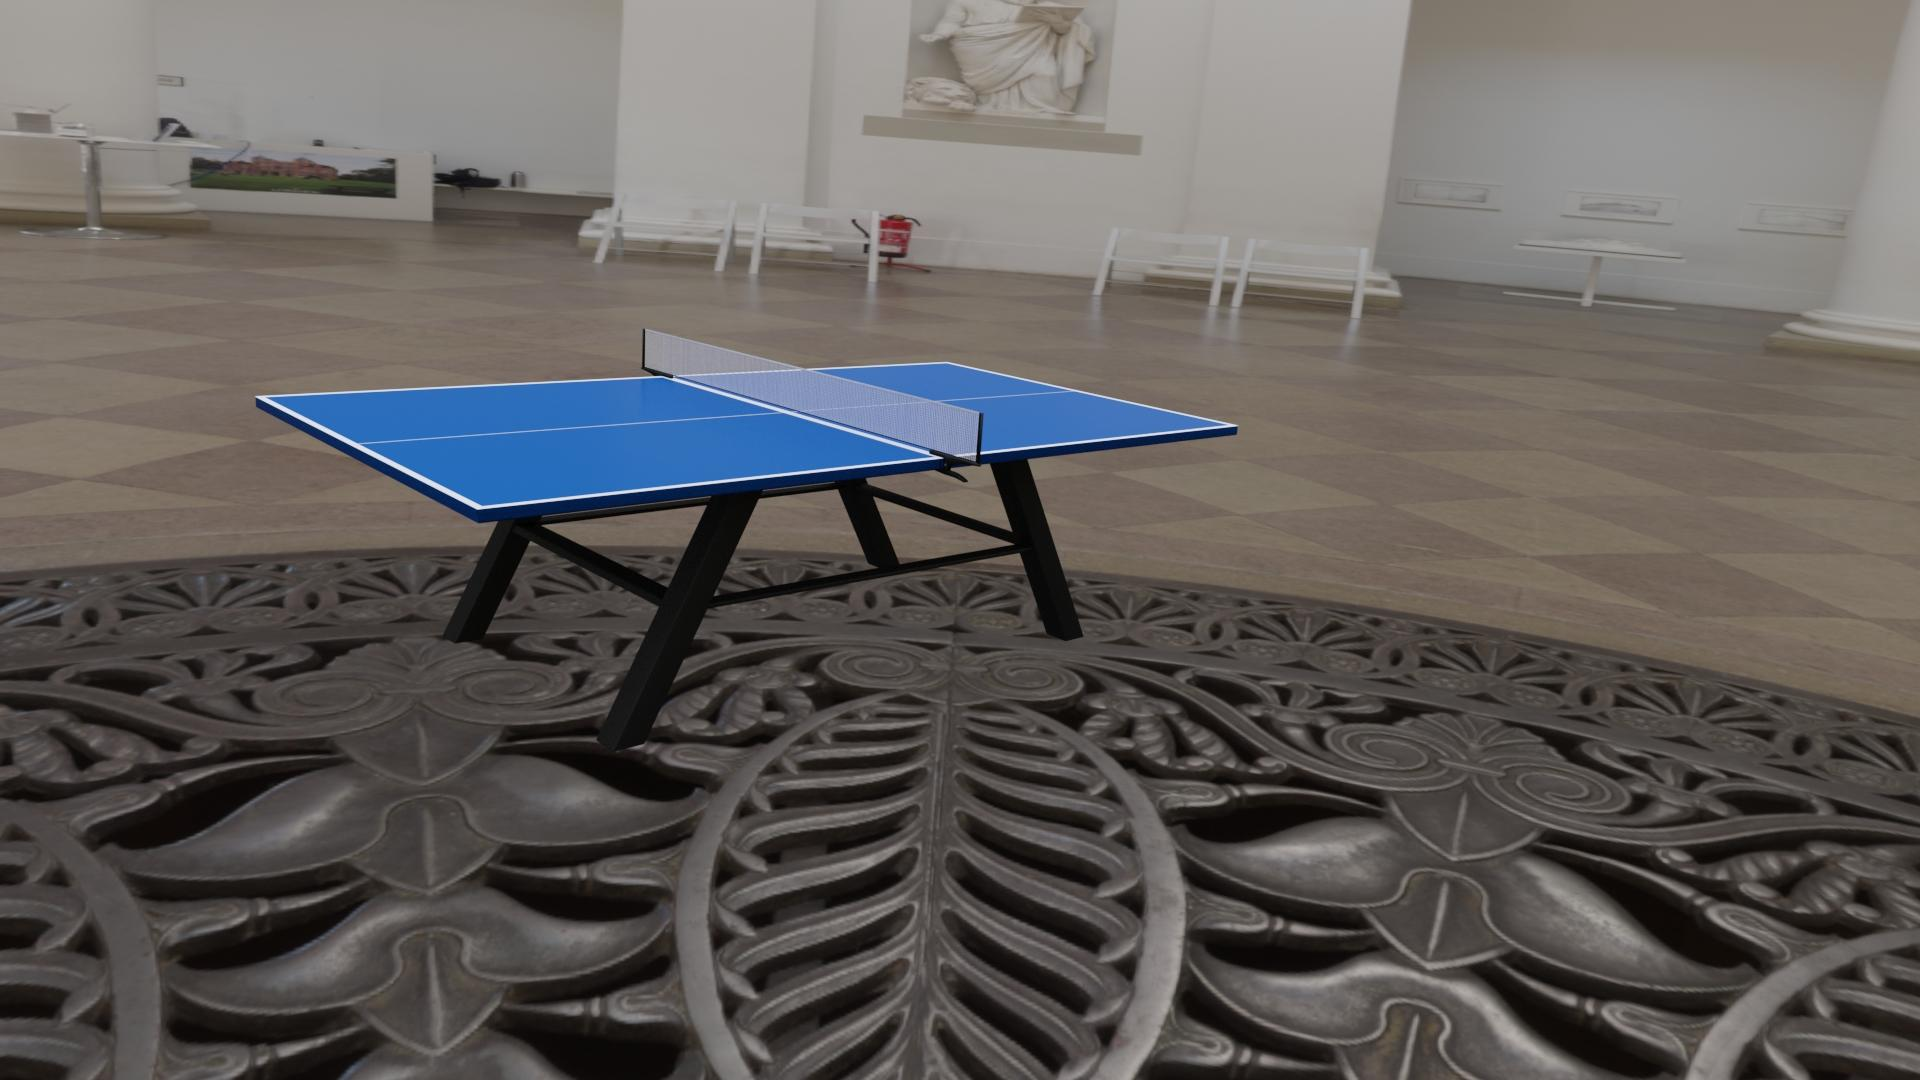table: (264, 363, 1230, 506)
